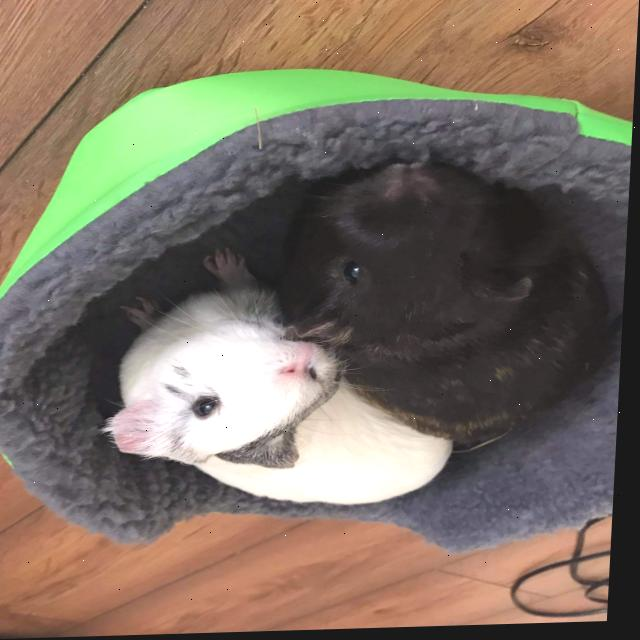guinea pig: (270, 150, 629, 451), (111, 239, 472, 515)
